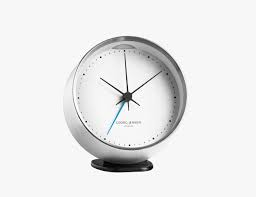alarm_clock: (65, 27, 198, 172), (65, 36, 198, 172)
